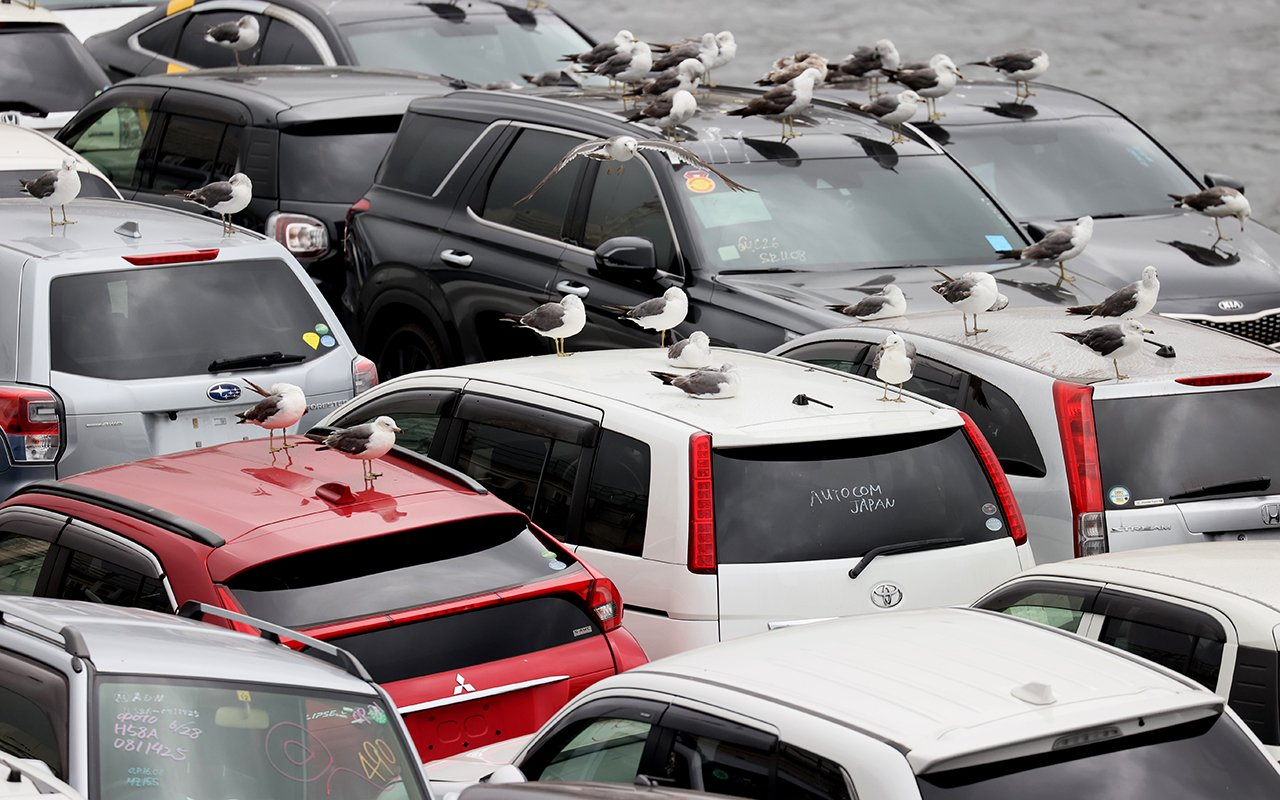Car: (342, 89, 1119, 378), (321, 350, 1033, 658), (0, 437, 646, 761), (427, 609, 1280, 800), (819, 66, 1280, 348), (770, 309, 1280, 562), (0, 199, 377, 498), (58, 67, 461, 318), (0, 596, 433, 800), (973, 540, 1280, 759), (86, 0, 595, 86), (0, 0, 110, 135), (0, 123, 122, 199), (22, 0, 168, 47), (458, 782, 757, 800), (0, 751, 84, 800)
